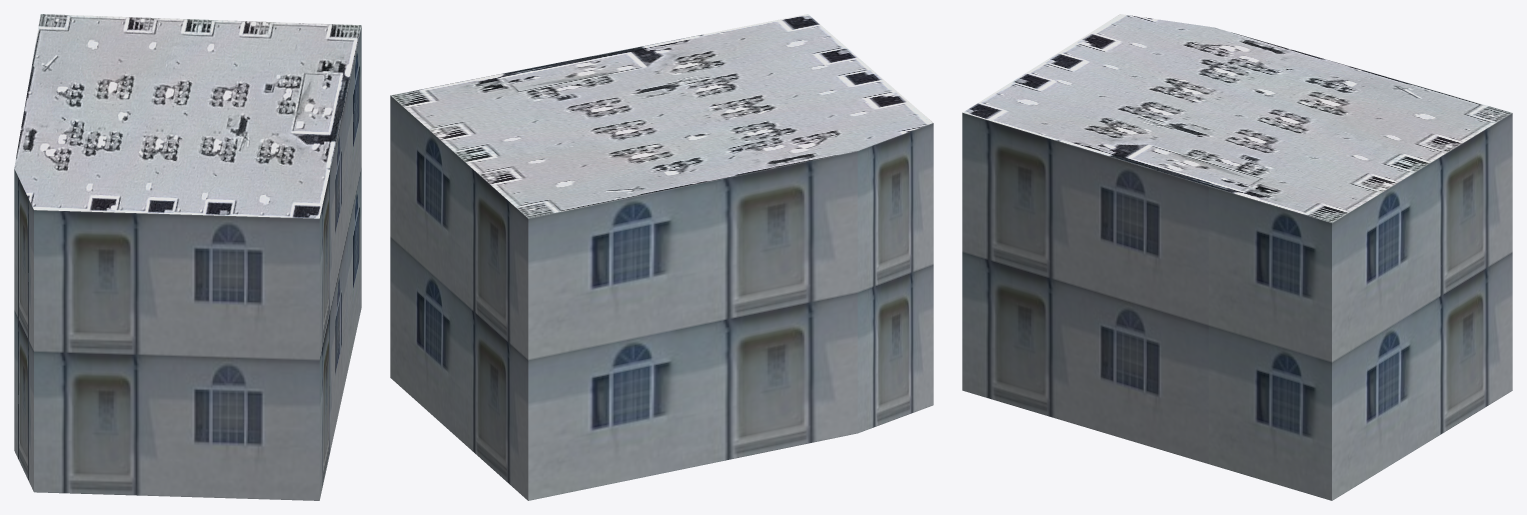
Rendered from ResTex__4591.fbx.
3 renders of one model, left to right at view 1: azimuth 30°, elevation 25°; view 2: azimuth 150°, elevation 25°; view 3: azimuth 270°, elevation 25°, orthographic.
Parts seen in each view (by area): view 1: CityEngineMaterial_17_m, CityEngineMaterial_m; view 2: CityEngineMaterial_17_m, CityEngineMaterial_m; view 3: CityEngineMaterial_17_m, CityEngineMaterial_m.
Part boxes in pixels (bbox=[...]): CityEngineMaterial_17_m: bbox=[14, 26, 361, 500]; CityEngineMaterial_m: bbox=[14, 14, 361, 218]; CityEngineMaterial_17_m: bbox=[390, 95, 933, 500]; CityEngineMaterial_m: bbox=[391, 14, 932, 218]; CityEngineMaterial_17_m: bbox=[962, 112, 1512, 500]; CityEngineMaterial_m: bbox=[963, 14, 1511, 222].
Bounding box in the file's own units: 9.68 × 6 × 10.77.
2 materials, 2 textured.
